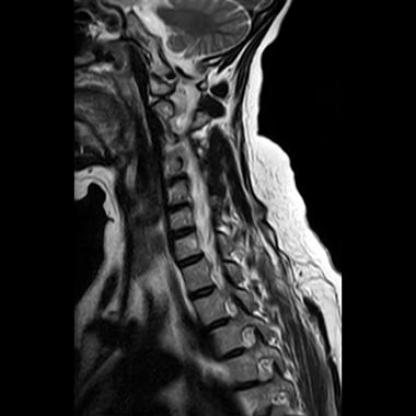Annular Disc Relaxationrotation: (165, 174, 188, 187)
Disc Bulgerotation: (165, 200, 193, 214)
Osteophytesrotation: (165, 201, 192, 213)
